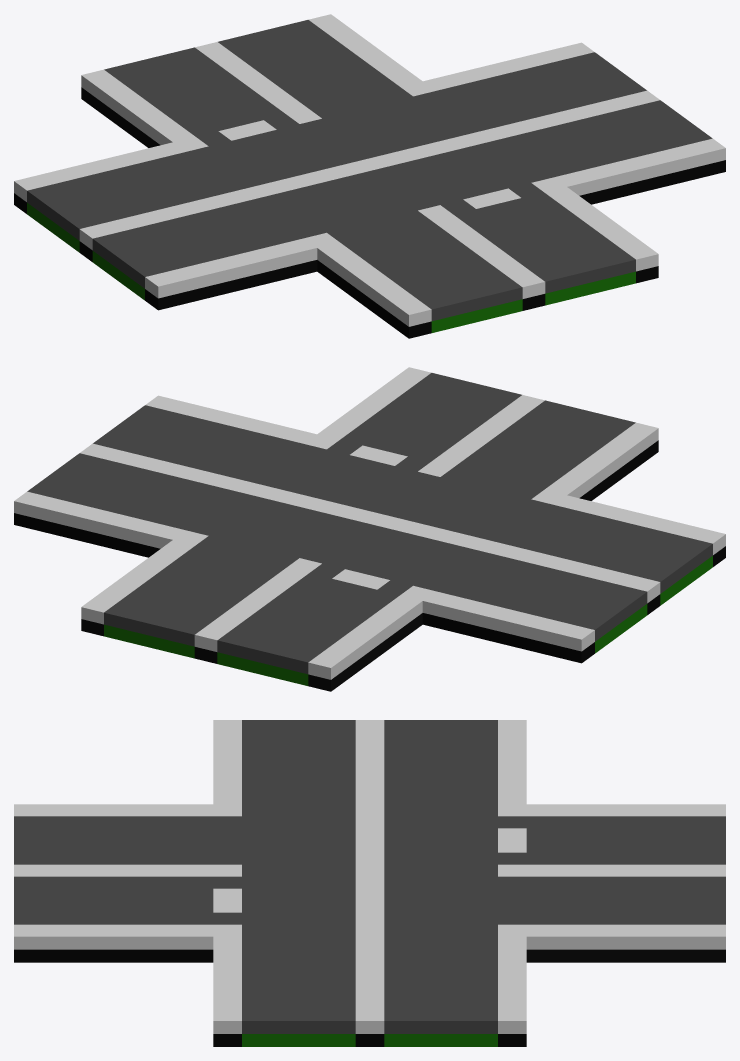
The model's file is StraßeKreuzung.obj.
3 renders of one model, top to bottom at view 1: azimuth 30°, elevation 25°; view 2: azimuth 150°, elevation 25°; view 3: azimuth 270°, elevation 25°, orthographic. The views are drawn at different scales.
Bounding box in the file's own units: 5 × 0.2 × 5.
1 material, 1 textured.
